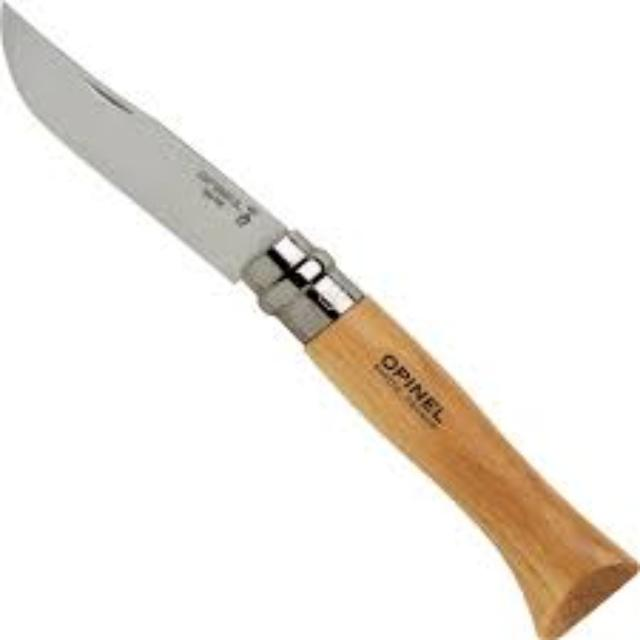Knife: (0, 0, 638, 638)
